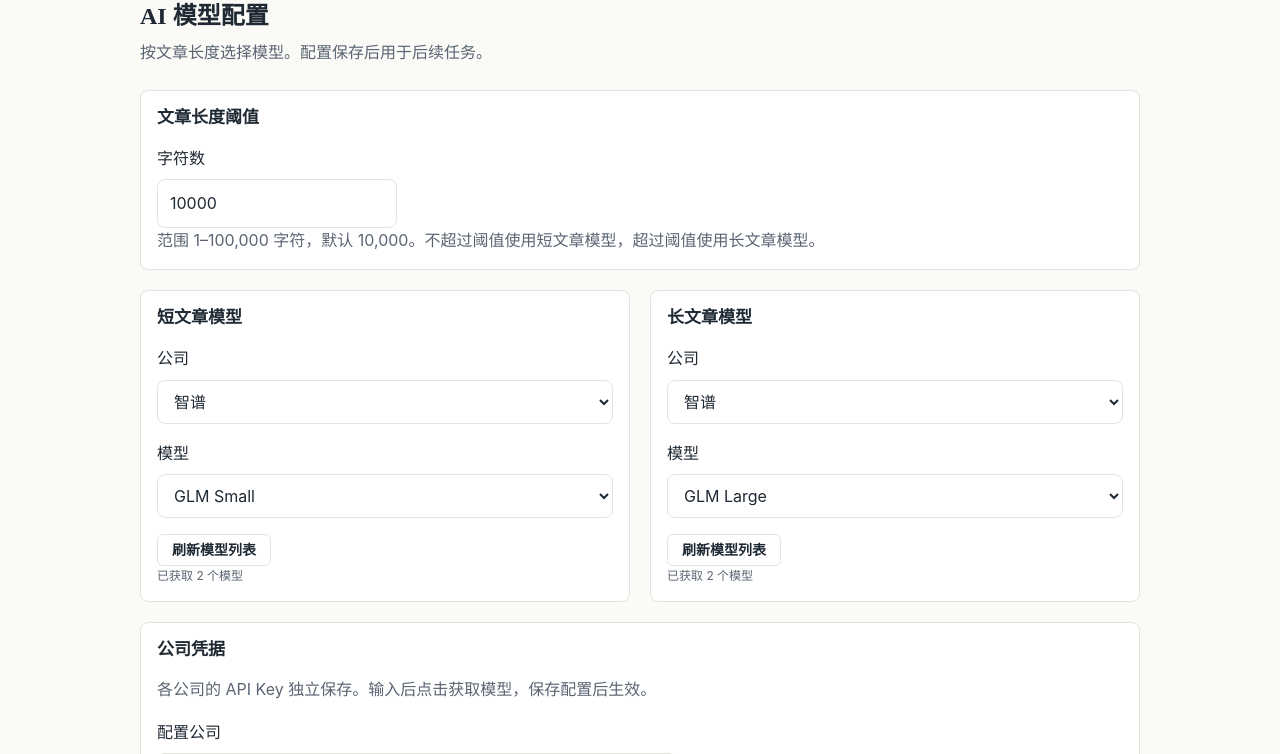
requires explicit reload after a revision conflict and retains the draft
Replace the text in the number field labelled "字符数" with "12345" at (277, 204), box [157,179,397,228]
(page scrolled)
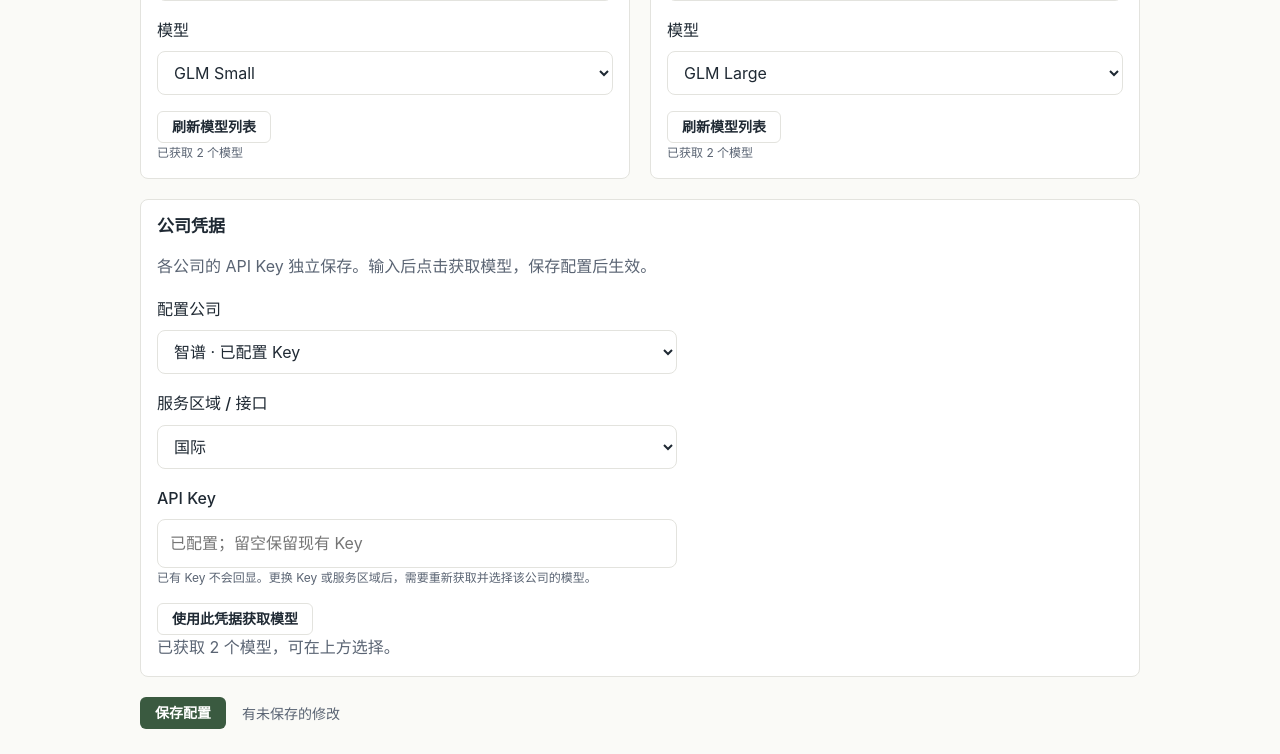
Click the button "保存配置" at (183, 713), box [140,697,226,729]
(page scrolled)
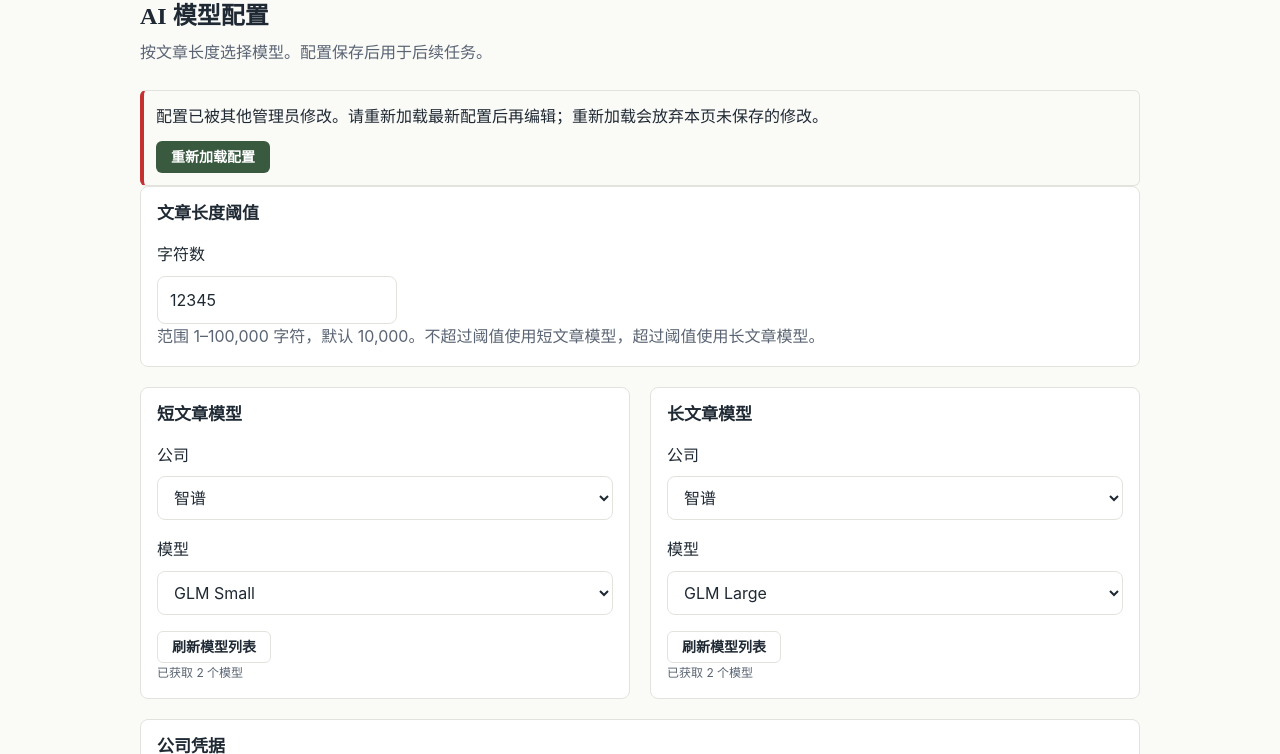
Now the text "配置已被其他管理员修改。请重新加载最新配置后再编辑；重新加载会放弃本页未保存的修改。 重新加载配置" is shown, box [140,90,1140,186]
Click the button "重新加载配置" at (213, 157), box [156,141,270,173]
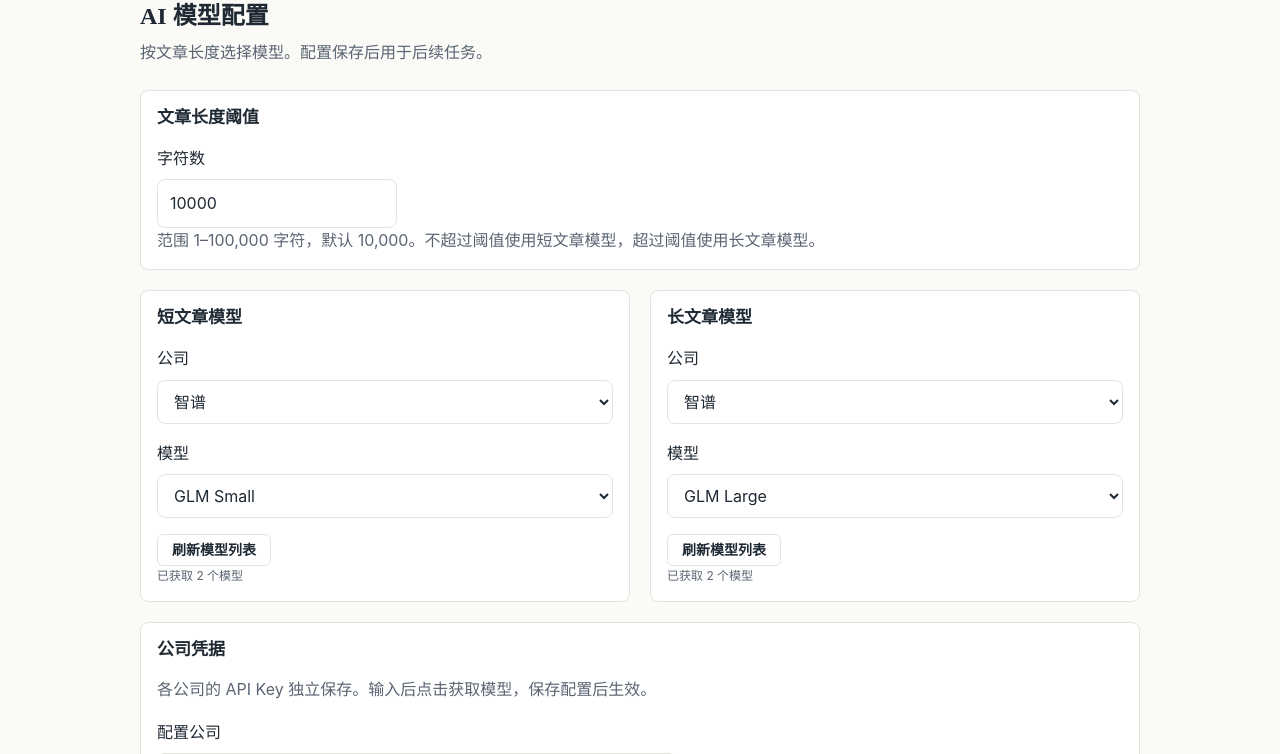
Now the number field labelled "字符数" holds "10000", box [157,179,397,228]
